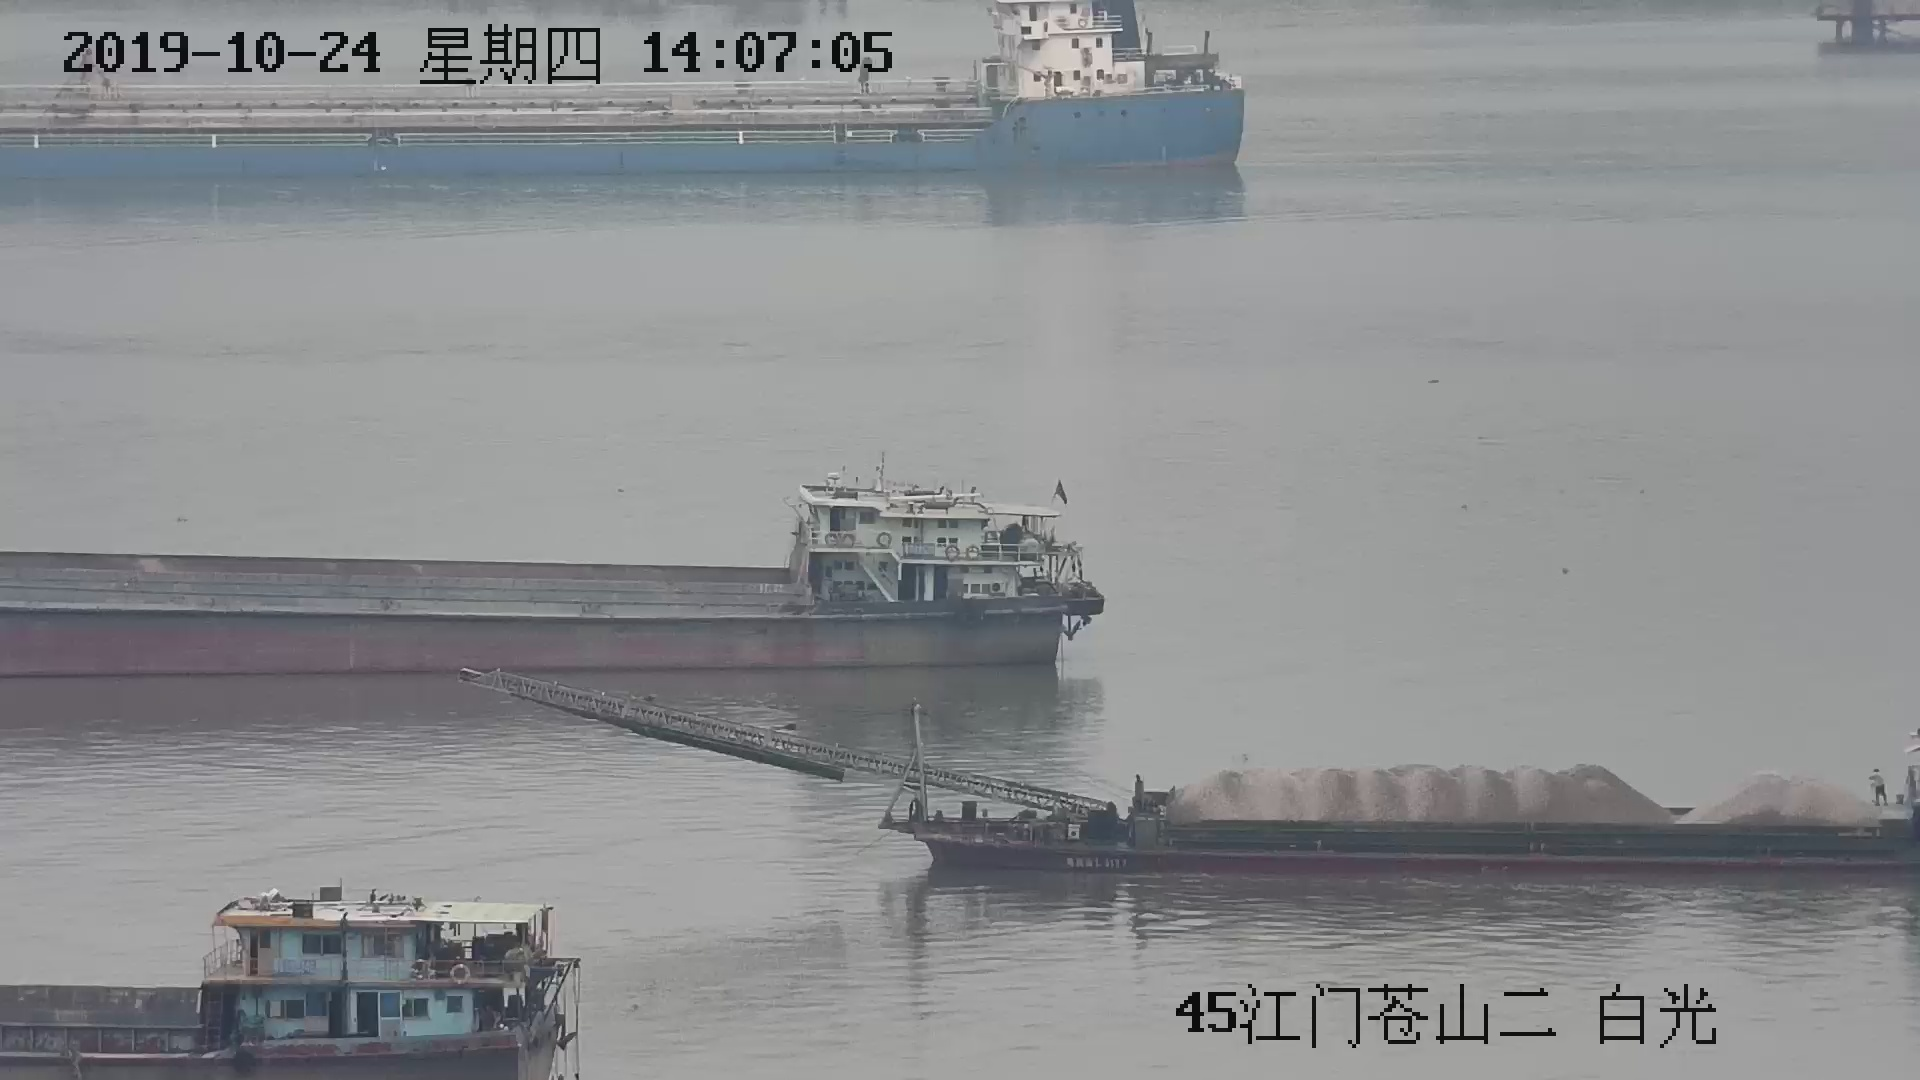ship: (1, 462, 1102, 680), (1, 3, 1249, 177), (889, 760, 1920, 885), (1, 872, 575, 1080)
